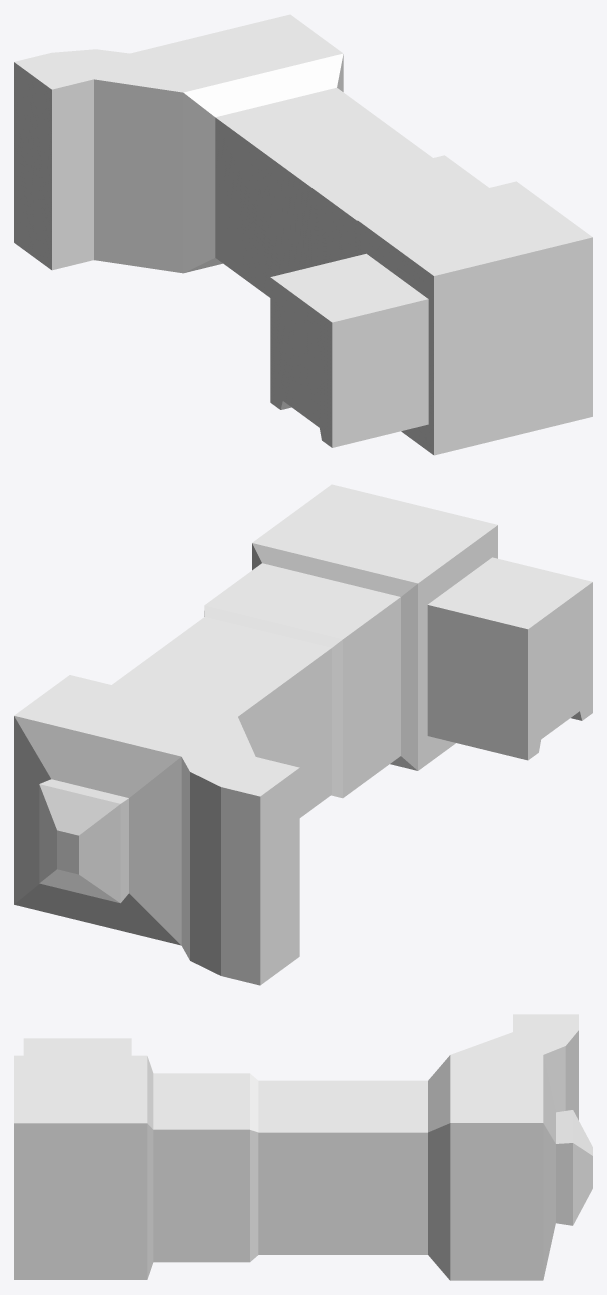
The model's file is venice_palace_1_1.fbx.
3 renders of one model, top to bottom at view 1: azimuth 30°, elevation 25°; view 2: azimuth 150°, elevation 25°; view 3: azimuth 270°, elevation 25°, orthographic. The views are drawn at different scales.
Visible parts, largest first — view 1: Cube.257; view 2: Cube.257; view 3: Cube.257.
Boxes of the visible parts, box(x1,y1,x2,y2) form: Cube.257: box(14, 14, 592, 455); Cube.257: box(14, 484, 592, 985); Cube.257: box(14, 1014, 592, 1280).
Bounding box in the file's own units: 298 × 202 × 671.
